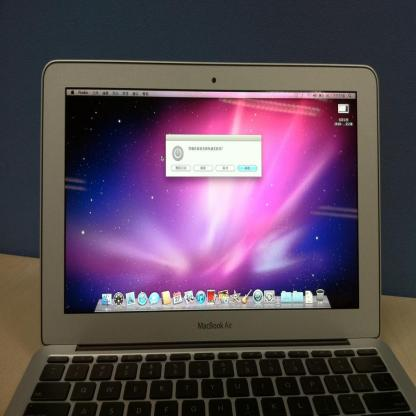board: (2, 63, 416, 416)
